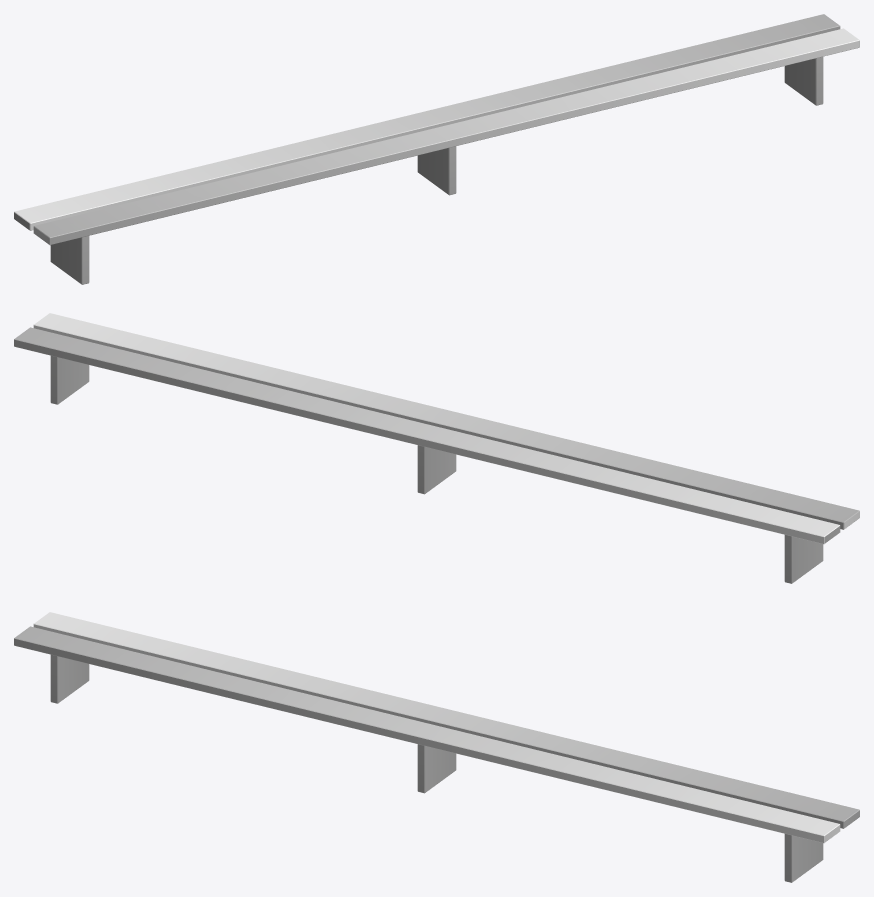
The model's file is BenchLong.fbx.
The picture shows the model from 3 angles, top to bottom: view 1: azimuth 30°, elevation 25°; view 2: azimuth 150°, elevation 25°; view 3: azimuth 330°, elevation 25°; orthographic projection.
Visible parts, largest first — view 1: BenchLong; view 2: BenchLong; view 3: BenchLong.
Boxes of the visible parts, <box> form: BenchLong: <box>14,14,859,284</box>; BenchLong: <box>14,313,859,583</box>; BenchLong: <box>14,612,859,882</box>.
Bounding box in the file's own units: 1052 × 71.33 × 80.83.
1 material, 1 textured.
